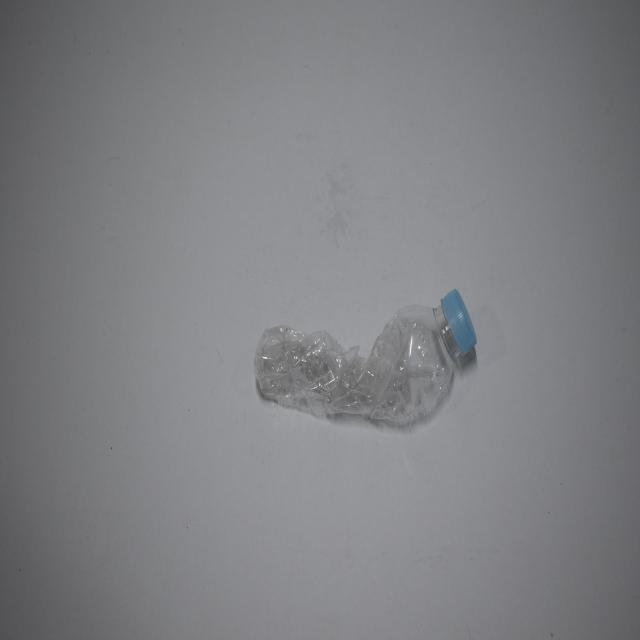bottle: (250, 282, 494, 434)
